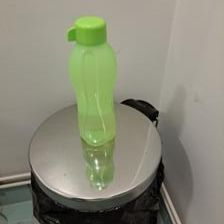bottle: (66, 14, 120, 145)
